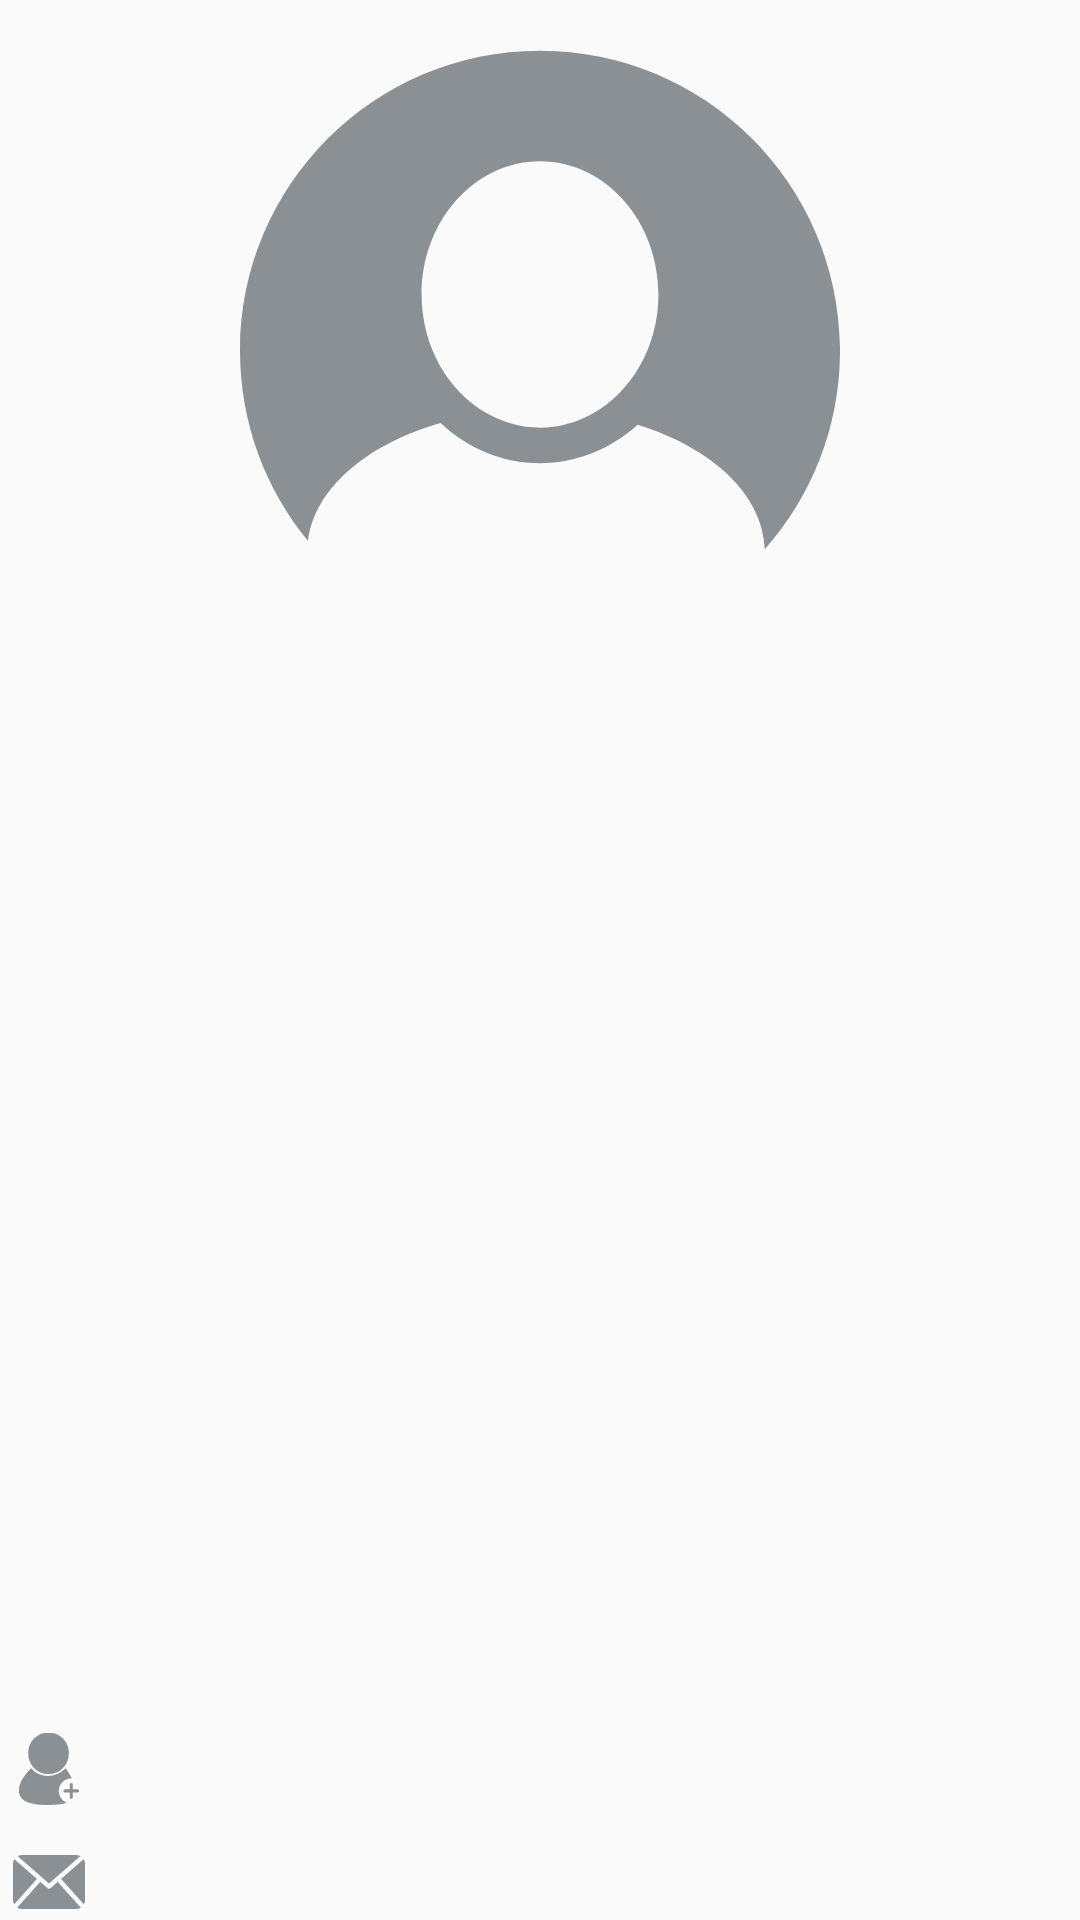

Icon bounding boxes for this 1080x1920 phone screenshot, format bbox(x1, y1, x2, y2):
add contact field: bbox(19, 1733, 79, 1805)
mail field: bbox(13, 1855, 85, 1909)
